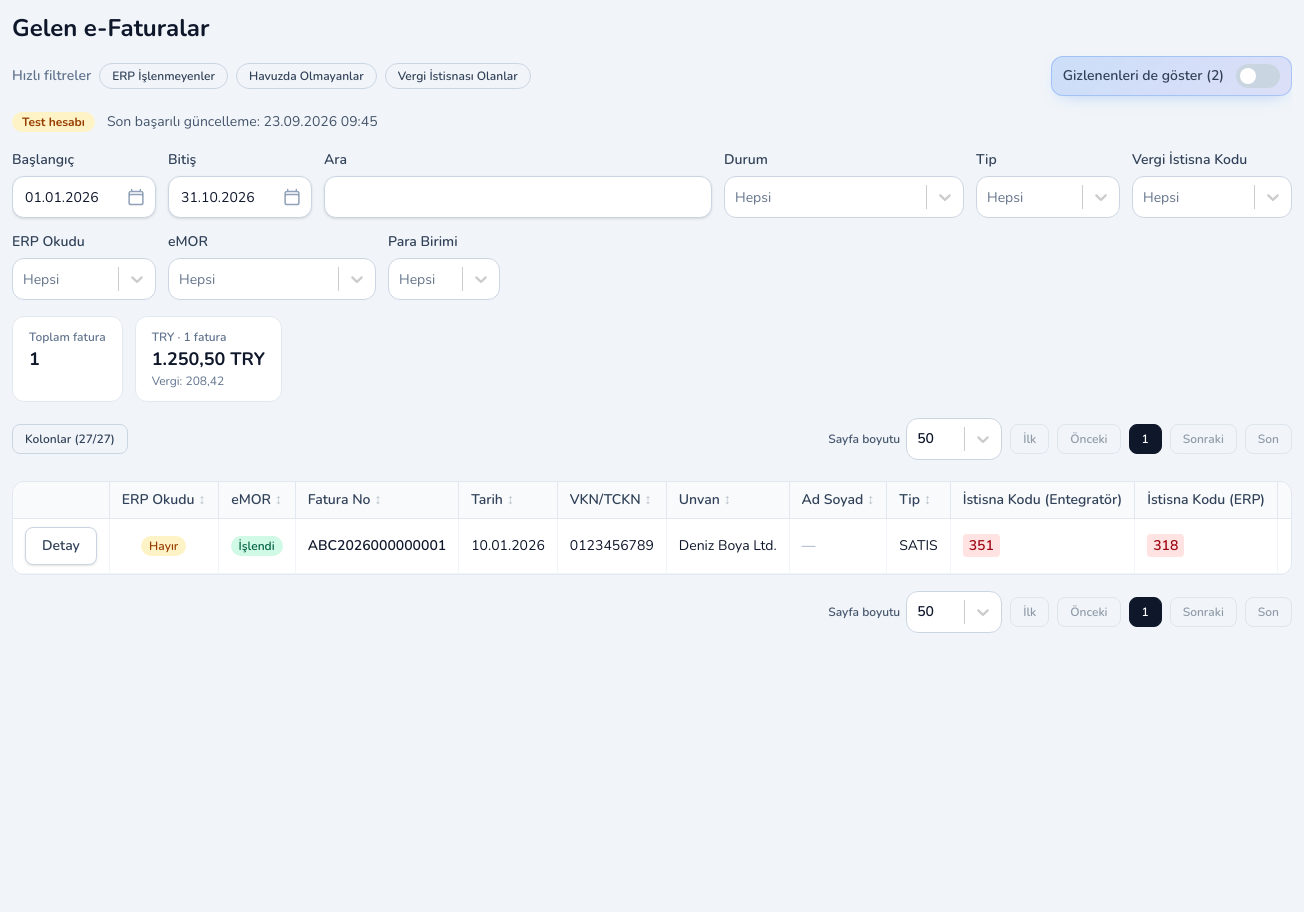
it: EFaturalarPage › bitiş başlangıçtan önceyse istek atmadan hata gösterir
Expected: the text "Deniz Boya Ltd." is shown, [679,536,777,556]
Replace the text in the field labelled "Bitiş" with "31.12.2025" at x=240, y=197, box [168,176,312,218]
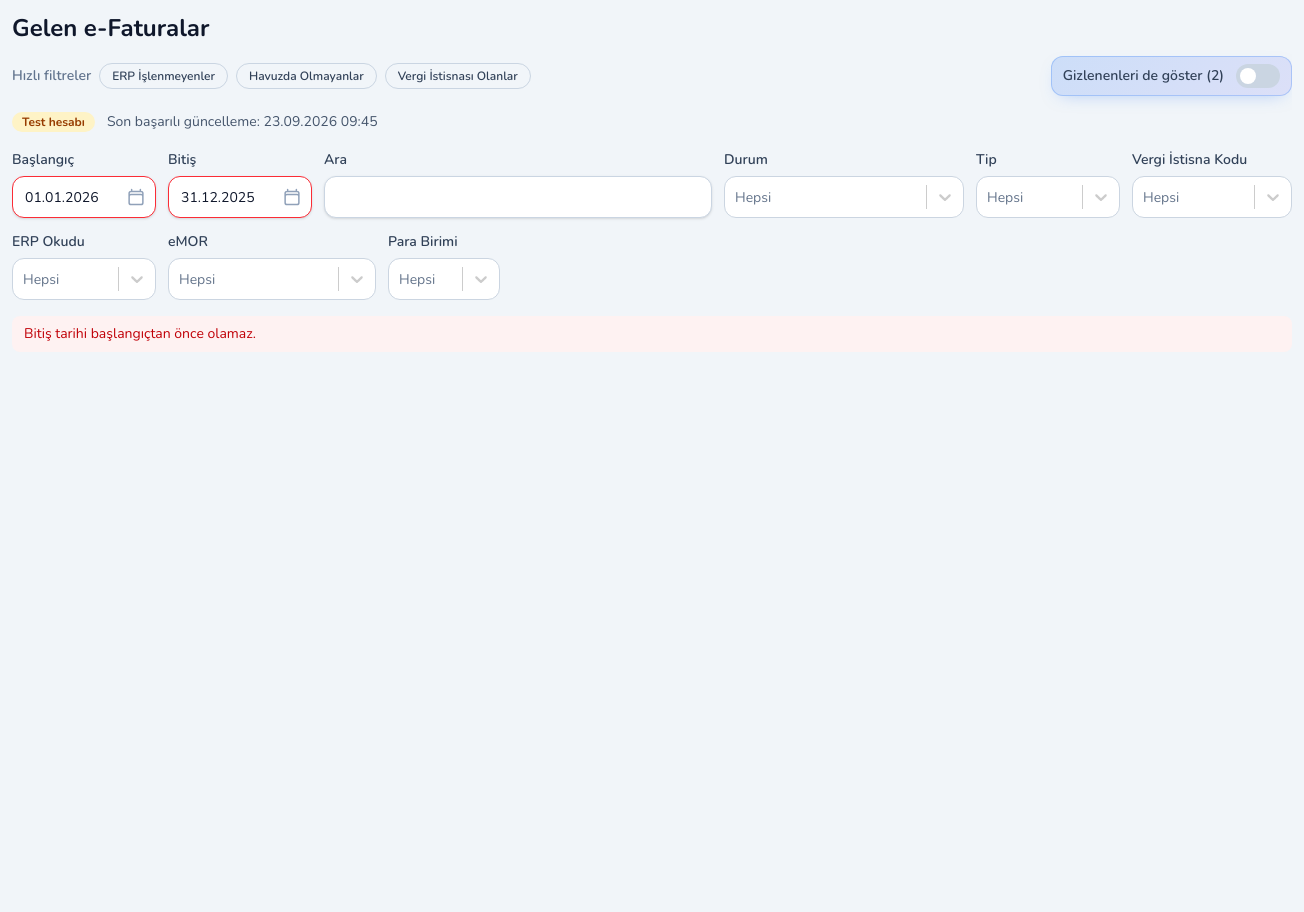
Now the text "Bitiş tarihi başlangıçtan önce olamaz." is shown, box [12,316,1292,352]
